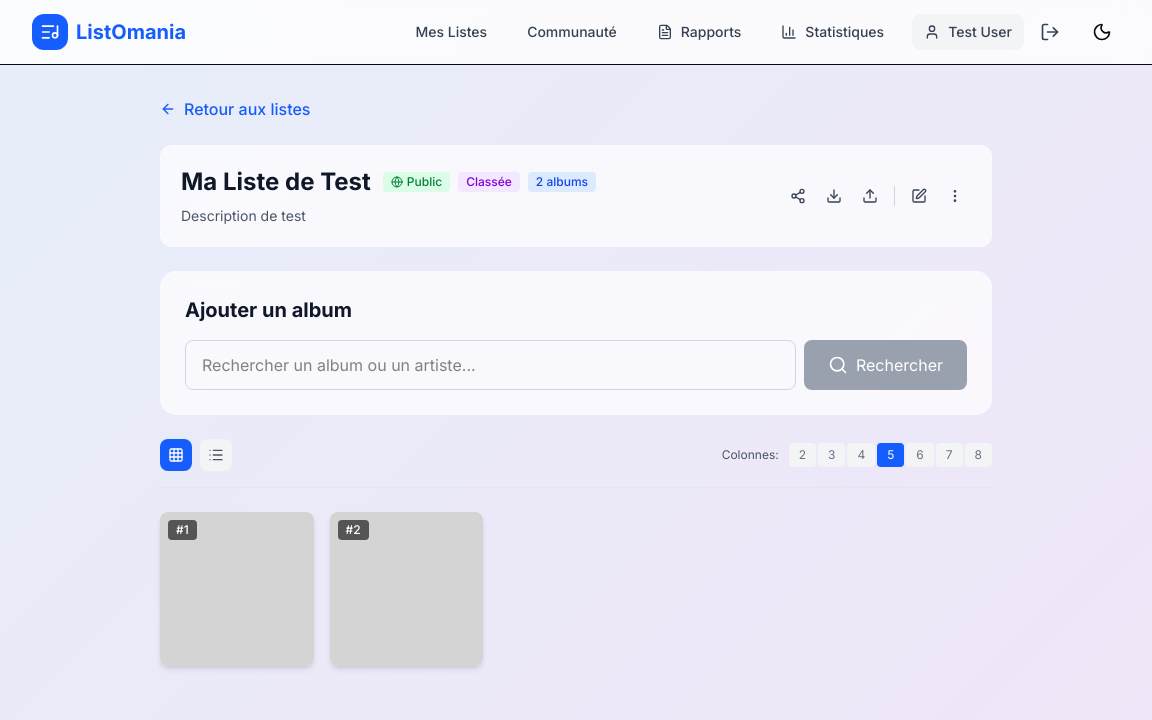
Test: Export Image Feature › ferme la modal au clic sur Annuler
expect the heading "Ma Liste de Test" is shown: met, box top-left (181, 166), bottom-right (371, 198)
// Ouvrir la modal
Step 1. Click the button titled "Exporter" → (834, 196), box top-left (818, 180), bottom-right (850, 212)
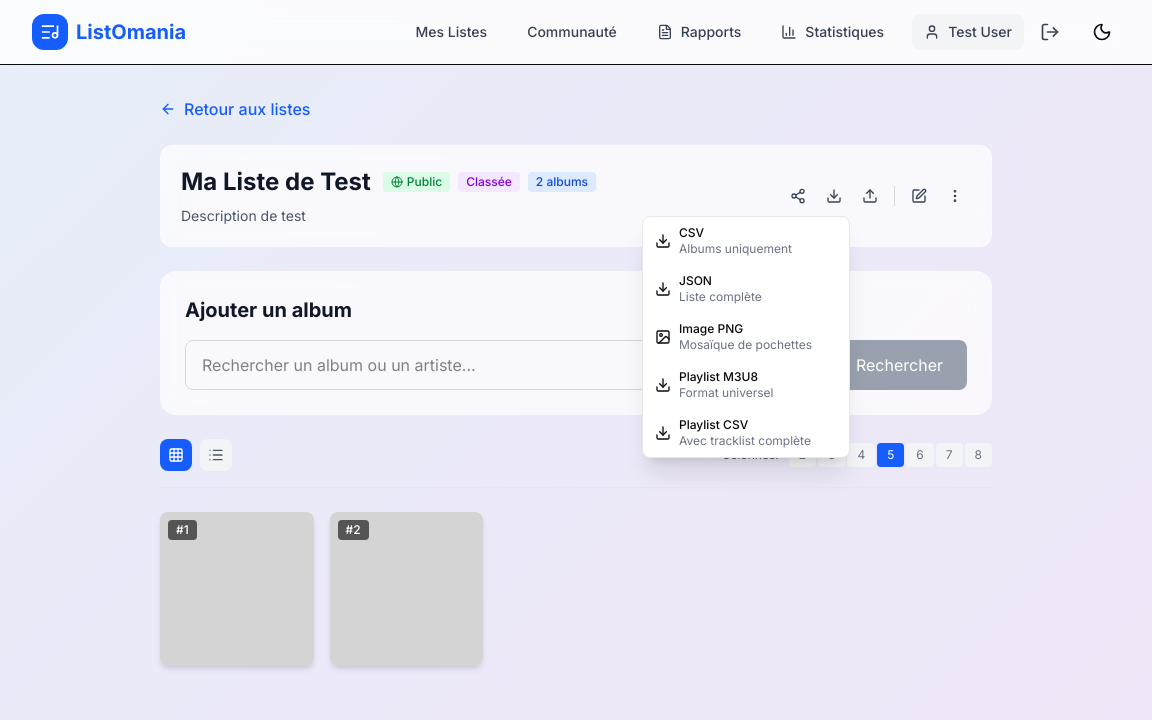
Step 2. Click the text "Image PNG" → (711, 328), box top-left (679, 321), bottom-right (743, 336)
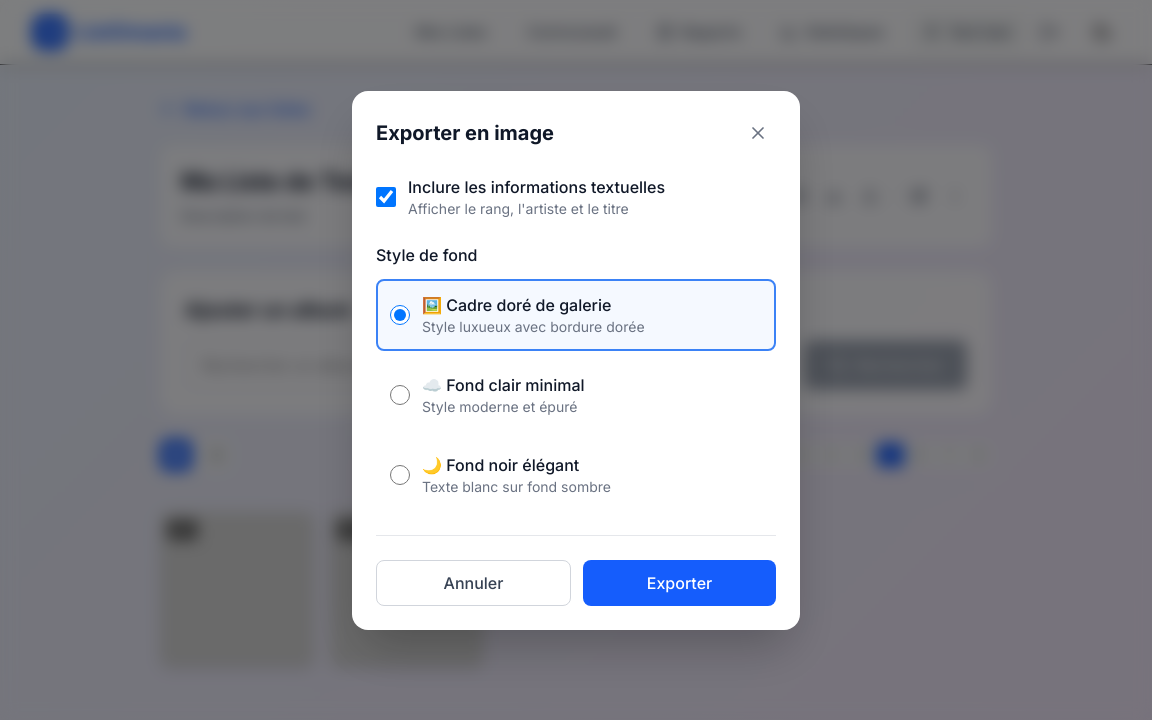
expect the heading "Exporter en image" is shown: met, box top-left (376, 118), bottom-right (554, 146)
// Cliquer sur Annuler
Step 3. Click the button "Annuler" → (474, 582), box top-left (376, 560), bottom-right (571, 606)
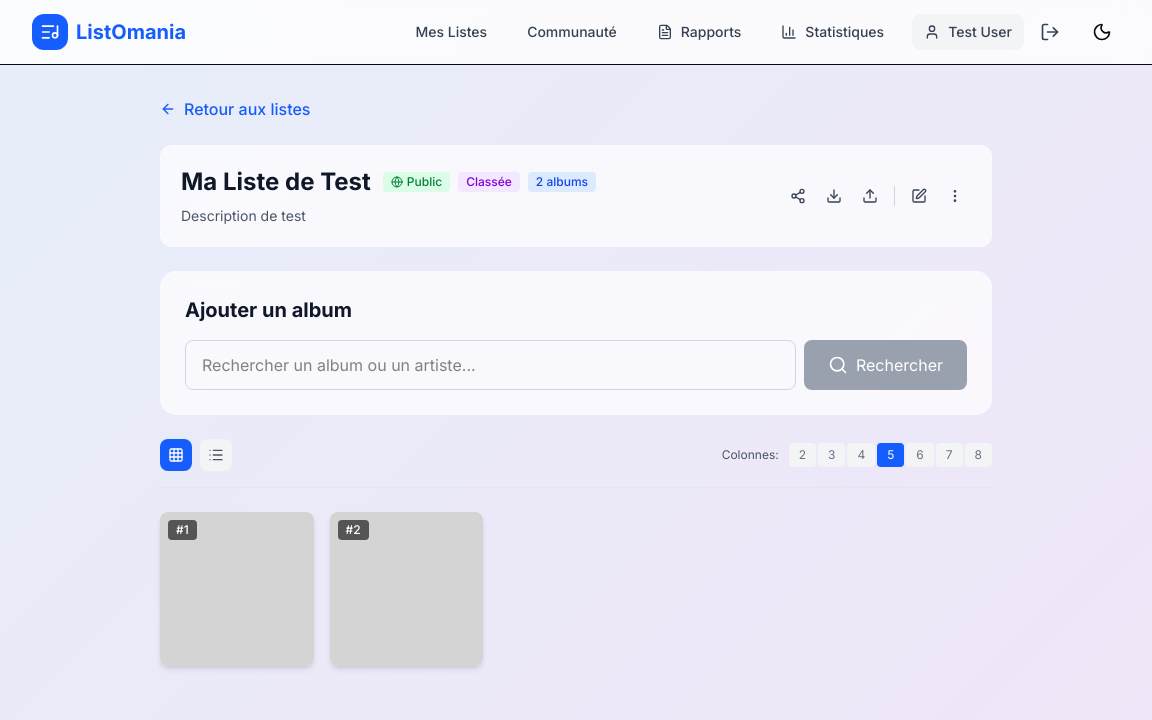
expect the heading "Exporter en image" is gone: met
